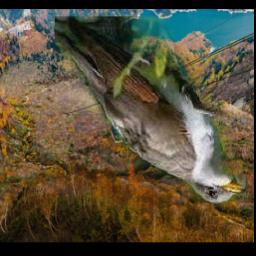Cuckoo: (55, 17, 246, 204)
